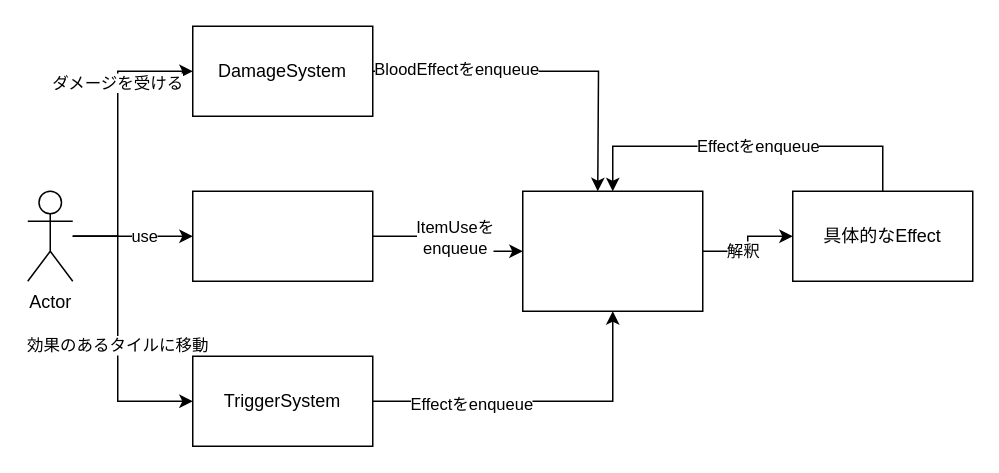
The diagram is 999 pixels wide and 473 high, and some of its shapes have lost their labels. Each missing label, with the centre of its shape:
"Effect Queue ダメージを与える タイルに装飾する ポータルを発生させる" goes at point 612,250.
"item" goes at point 282,235.
